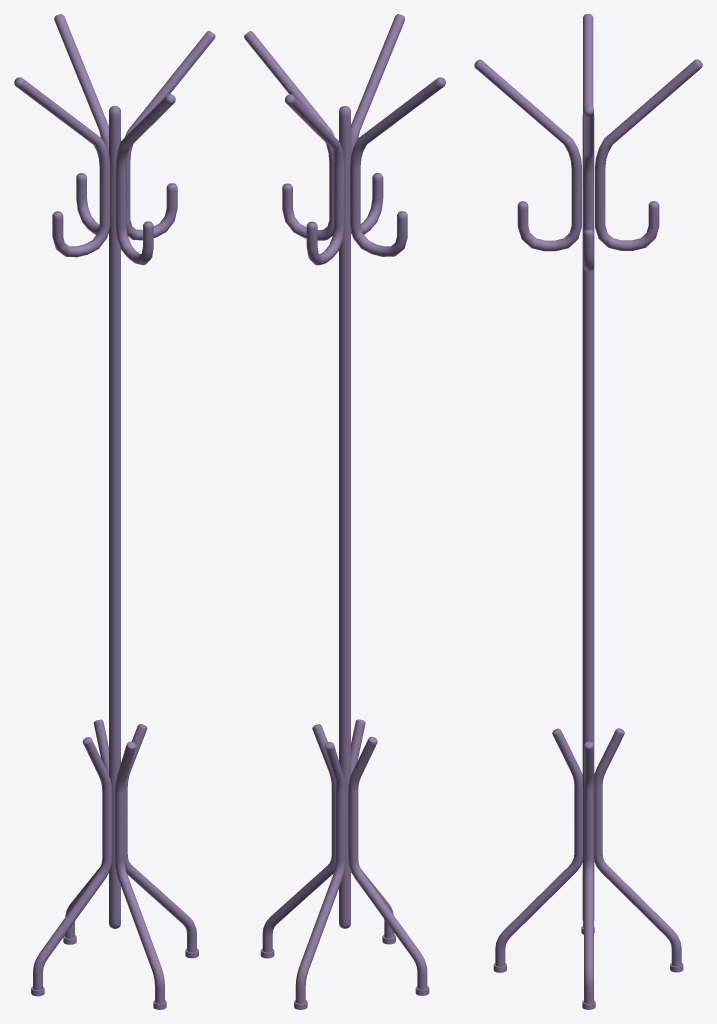
Rendered from hanger.fbx.
3 views of the same model, side by side, from view 1: azimuth 30°, elevation 25°; view 2: azimuth 150°, elevation 25°; view 3: azimuth 270°, elevation 25° (orthographic).
Parts seen in each view (by area): view 1: SM_Coathanger_01a_polySurface1; view 2: SM_Coathanger_01a_polySurface1; view 3: SM_Coathanger_01a_polySurface1.
Boxes of the visible parts, x1,y1,x2,y2 form: SM_Coathanger_01a_polySurface1: (14,14,215,1009); SM_Coathanger_01a_polySurface1: (244,14,445,1009); SM_Coathanger_01a_polySurface1: (474,14,702,1009).
Bounding box in the file's own units: 41.2 × 181 × 41.2.
